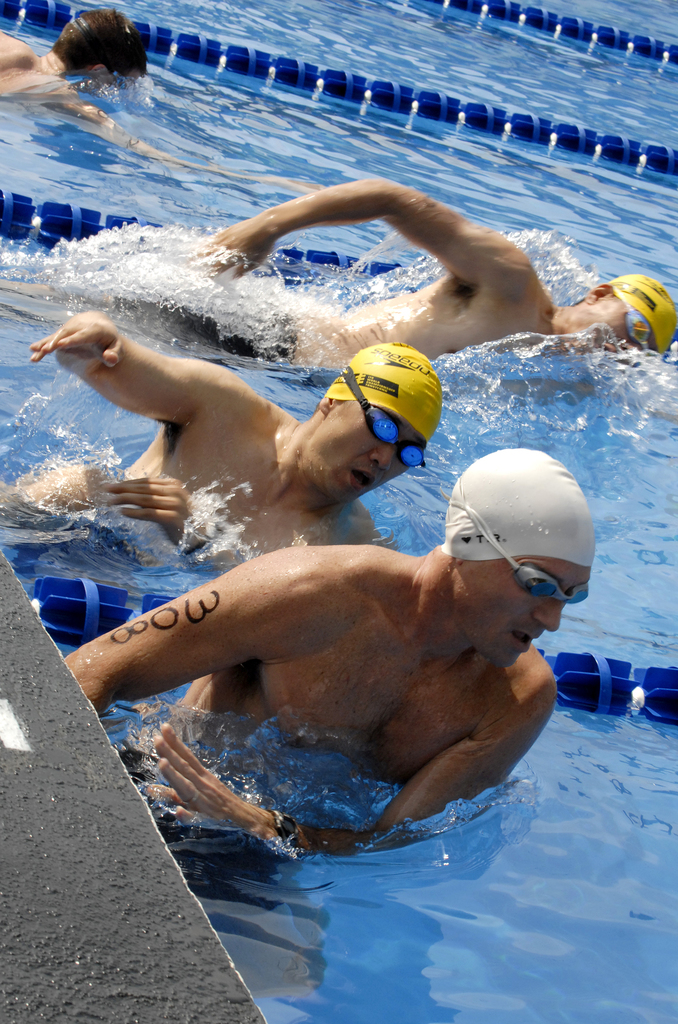Person: (63, 447, 596, 997), (0, 176, 678, 423)
